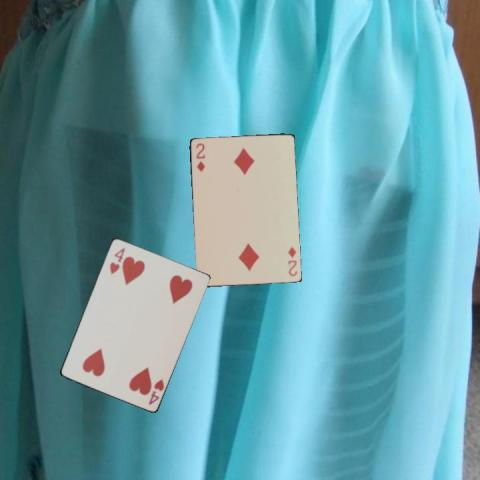2d: (284, 244, 298, 277), (193, 140, 206, 173)
4h: (106, 245, 126, 275), (146, 376, 166, 406)
